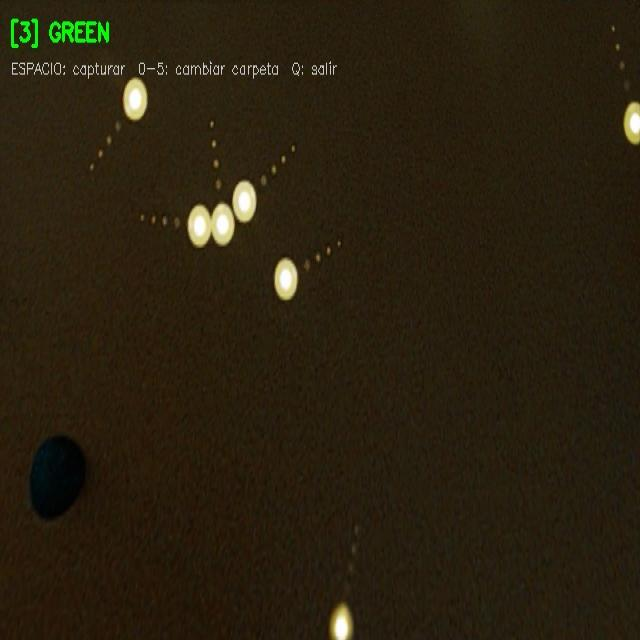green: (26, 434, 82, 516)
